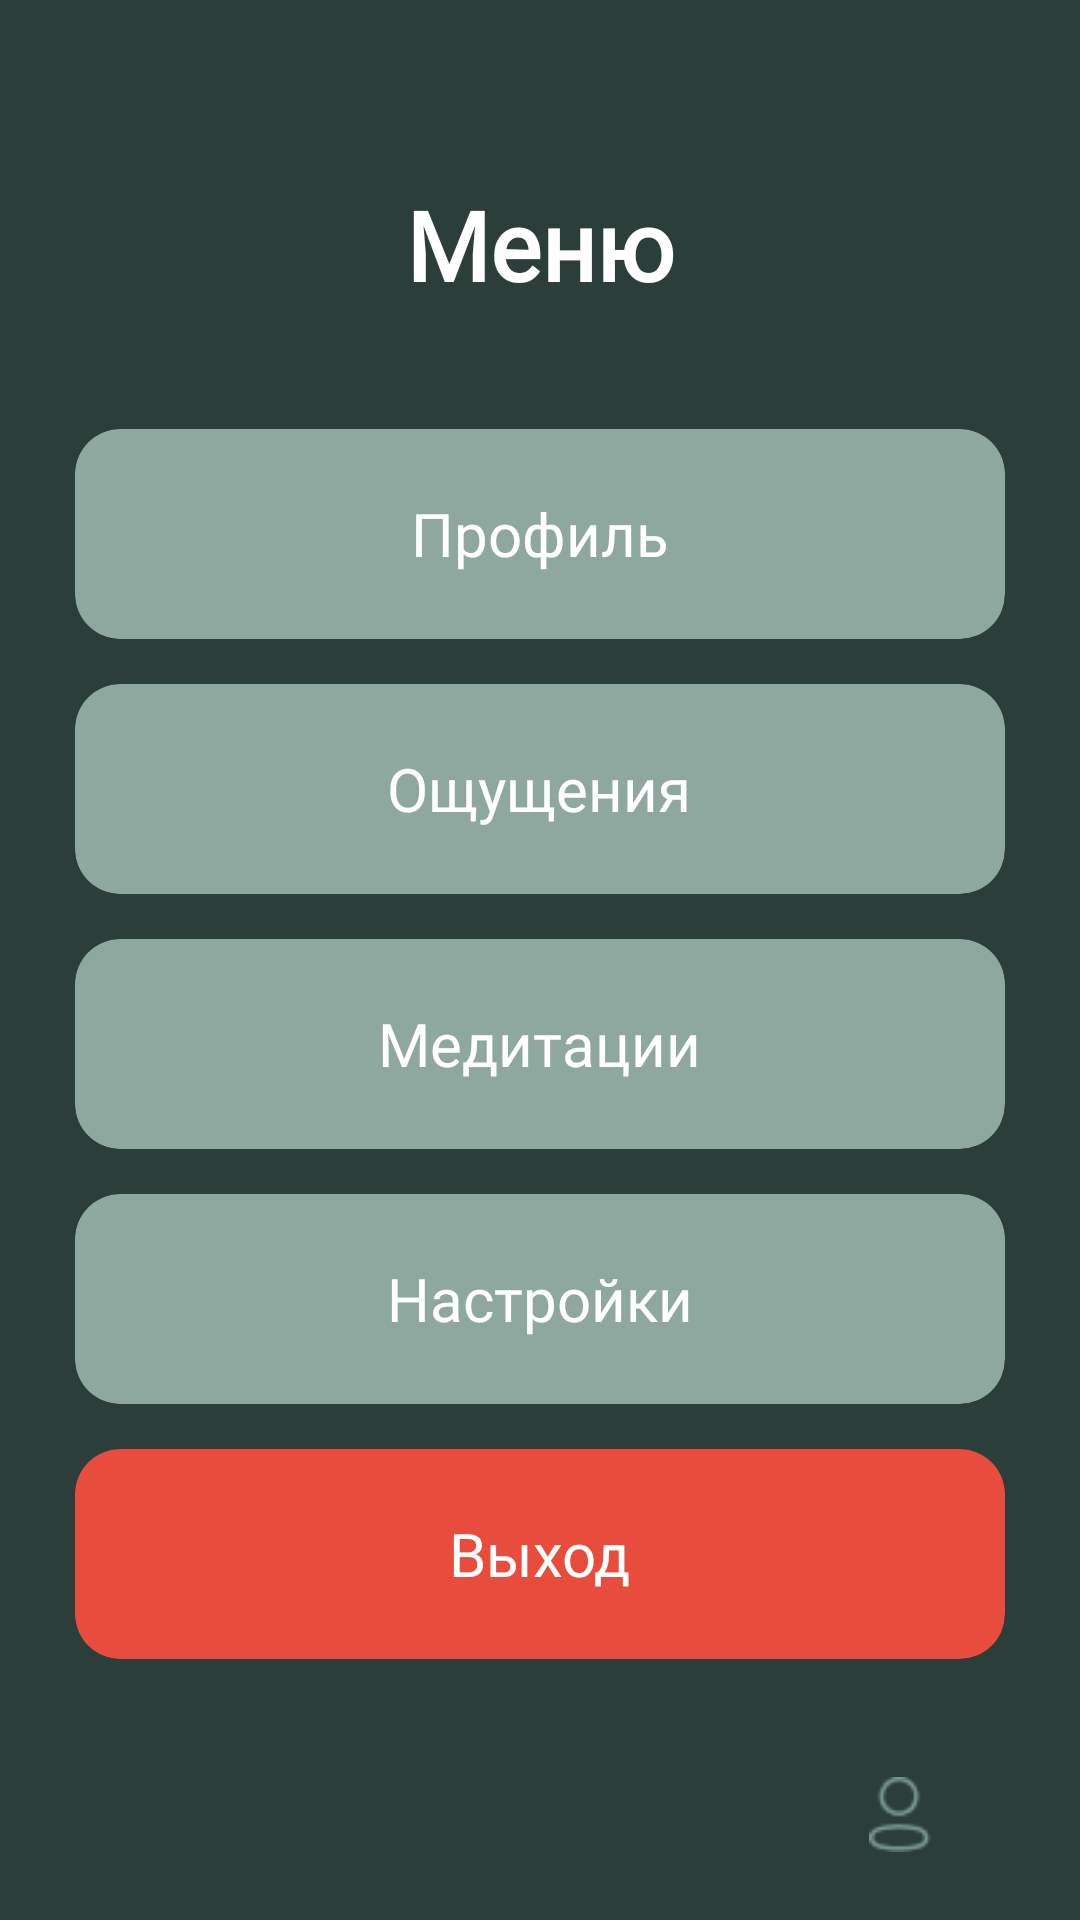

Icon bounding boxes for this 1080w x 1920h phone screenshot, format (x1=x1, y1=y1, x2=x2, y2=y2):
profile: (x1=869, y1=1777, x2=929, y2=1852)
